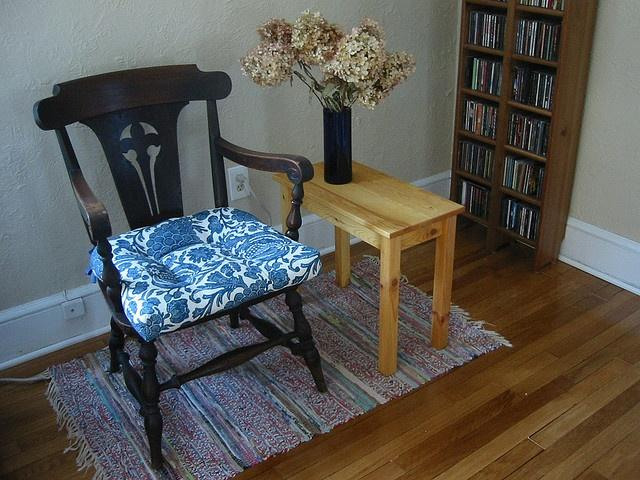Kursi: (32, 63, 328, 469)
Meja: (271, 157, 466, 280)
Rak: (447, 0, 599, 271)
